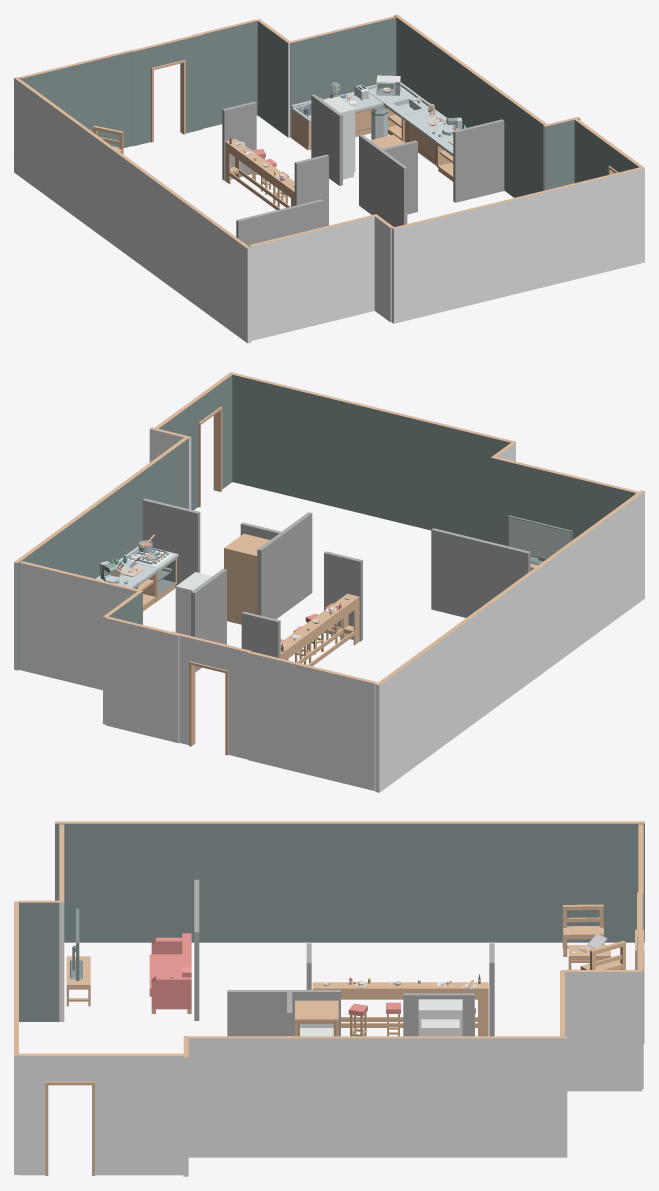
Rendered from lvl_2_kitchen.fbx.
The picture shows the model from 3 angles, top to bottom: view 1: azimuth 30°, elevation 25°; view 2: azimuth 150°, elevation 25°; view 3: azimuth 270°, elevation 25°; orthographic projection. The views are drawn at different scales.
Parts seen in each view (by area): view 1: wall5, wall1, wall6, wall10, wall3, wall2, wallDoorway1, wall11, wall15, wall13, wall9, wall12 (+17 smaller); view 2: wall1, wall5, wall2, wall3, wall10, wall11, wall6, wall12, wallDoorway1, wall13, wallDoorway, wall15 (+11 smaller); view 3: wall1, wall10, wall9, wallDoorway, wall8, wall7, wall13, tableCoffee3, loungeSofa, kitchenFridge, kitchenFridgeBuiltIn, wall19 (+10 smaller).
Part boxes in pixels (left/top/right/bottom): wall5: left=391, top=166, right=644, bottom=323; wall1: left=14, top=77, right=251, bottom=343; wall6: left=248, top=214, right=377, bottom=340; wall10: left=394, top=14, right=546, bottom=197; wall3: left=289, top=16, right=396, bottom=137; wall2: left=19, top=50, right=132, bottom=147; wallDoorway1: left=132, top=33, right=202, bottom=146; wall11: left=192, top=19, right=257, bottom=128; wall15: left=453, top=119, right=504, bottom=202; wall13: left=359, top=134, right=407, bottom=226; wall9: left=257, top=19, right=291, bottom=137; wall12: left=236, top=199, right=323, bottom=245; wall1: left=375, top=490, right=644, bottom=792; wall5: left=229, top=372, right=515, bottom=541; wall2: left=247, top=651, right=376, bottom=790; wall3: left=19, top=561, right=141, bottom=690; wall10: left=14, top=436, right=189, bottom=670; wall11: left=106, top=616, right=179, bottom=743; wall6: left=490, top=456, right=637, bottom=557; wall12: left=431, top=528, right=530, bottom=617; wallDoorway1: left=170, top=631, right=250, bottom=759; wall13: left=257, top=512, right=312, bottom=619; wallDoorway: left=183, top=373, right=232, bottom=510; wall15: left=142, top=498, right=200, bottom=587; wall1: left=55, top=821, right=644, bottom=942; wall10: left=188, top=1036, right=567, bottom=1157; wall9: left=561, top=970, right=641, bottom=1091; wallDoorway: left=19, top=1053, right=121, bottom=1175; wall8: left=121, top=1053, right=183, bottom=1175; wall7: left=19, top=900, right=59, bottom=1021; wall13: left=227, top=990, right=340, bottom=1036; tableCoffee3: left=312, top=982, right=488, bottom=1036; loungeSofa: left=149, top=933, right=191, bottom=1013; kitchenFridge: left=418, top=999, right=462, bottom=1036; kitchenFridgeBuiltIn: left=295, top=1000, right=338, bottom=1036; wall19: left=403, top=993, right=474, bottom=1036.
Size of the model in its own units: 1134 by 267 by 1282.
